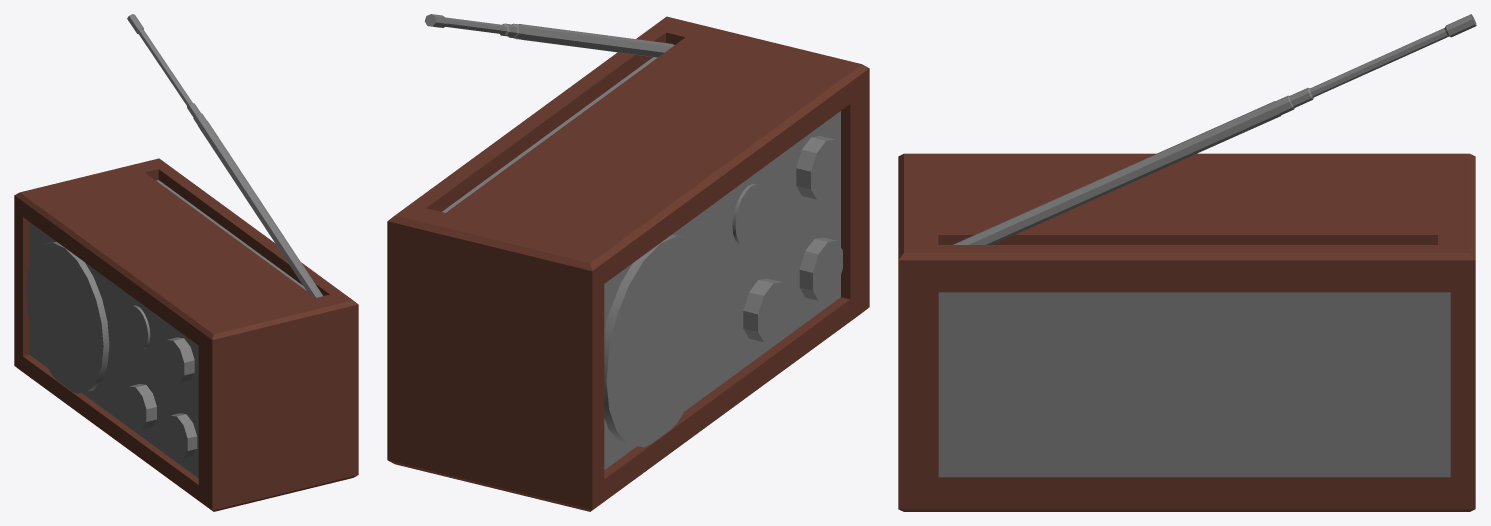
File: Radio_01RK.fbx
3 views of the same model, side by side, from view 1: azimuth 30°, elevation 25°; view 2: azimuth 150°, elevation 25°; view 3: azimuth 270°, elevation 25° (orthographic). The views are drawn at different scales.
Visible parts, largest first — view 1: Radio_01RK; view 2: Radio_01RK; view 3: Radio_01RK.
Boxes of the visible parts, bbox=[...] form: Radio_01RK: bbox=[14, 14, 358, 511]; Radio_01RK: bbox=[387, 14, 869, 511]; Radio_01RK: bbox=[898, 14, 1476, 511].
Bounding box in the file's own units: 37.71 × 78.74 × 86.26.
